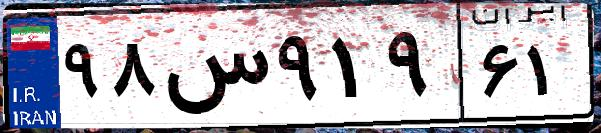1: (330, 28, 385, 110), (525, 38, 570, 115)
6: (475, 38, 525, 113)
8: (110, 28, 158, 98)
9: (270, 28, 330, 110), (385, 28, 445, 110), (57, 26, 110, 100)
س: (158, 20, 270, 120)
